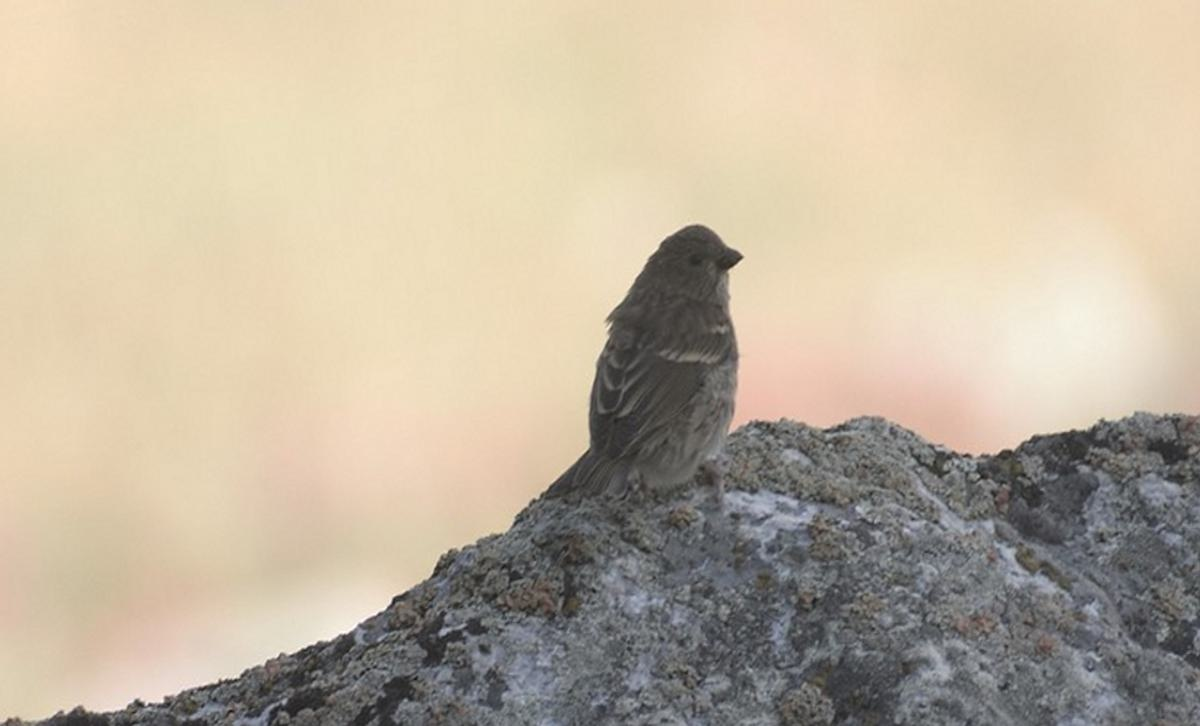rosefinch: (555, 171, 816, 547)
